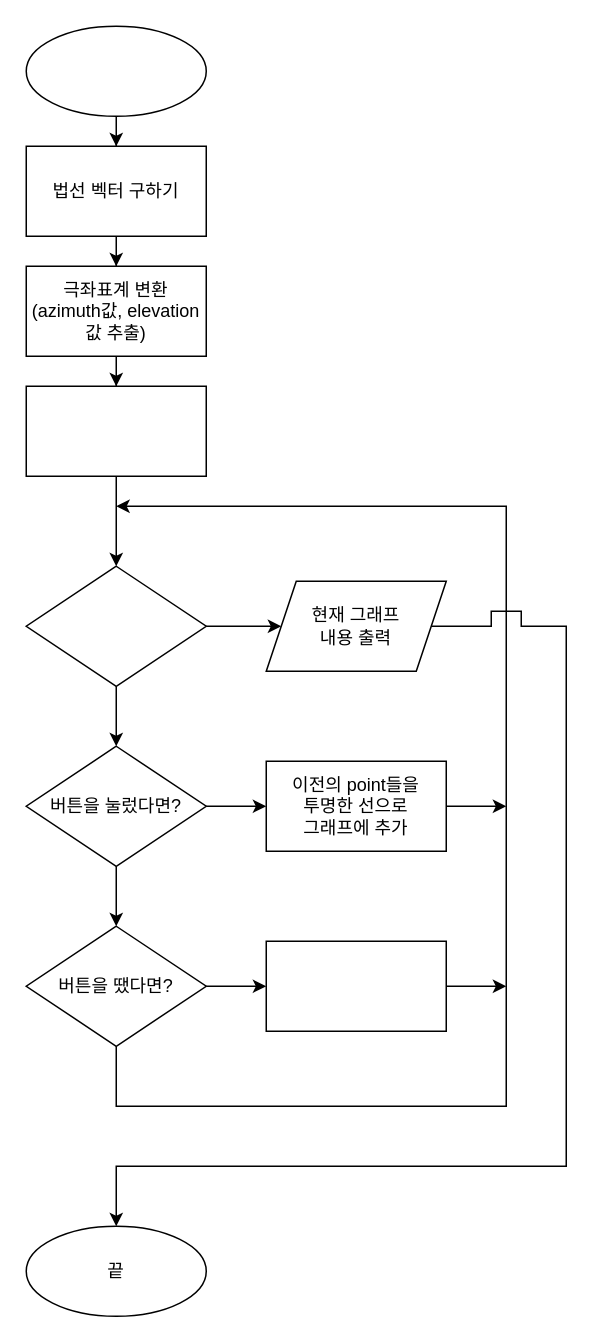
Some shapes in this 605 by 1343 pixel diagram are drawn without their labels. Here are the shapes that lost their labels. From the top down, the box of each, then its label:
(25, 25, 206, 116): 시작
(25, 385, 206, 476): azimuth값 elevation값을 plot angle에 적용
(25, 565, 206, 686): 모든 point를 그래프에 추가?
(265, 940, 446, 1031): 이전의 point들을 유색의 선으로 그래프에 추가
